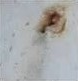Corrosion: (38, 4, 67, 34)
